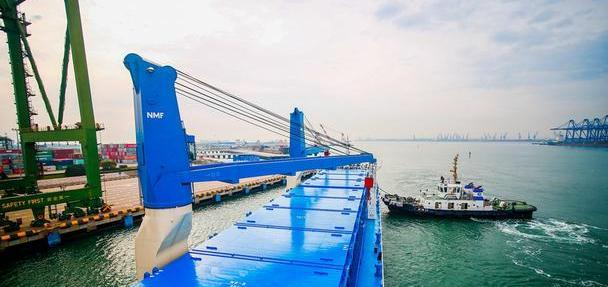otherboat: (388, 159, 540, 224)
